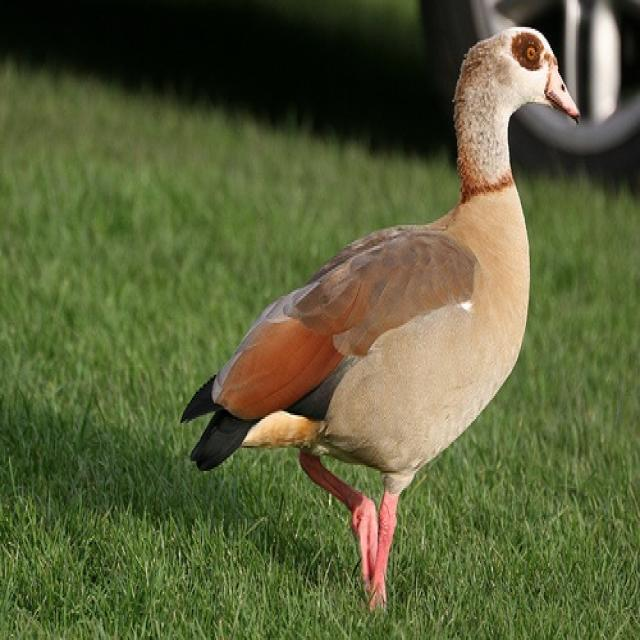bird: (182, 21, 586, 617)
